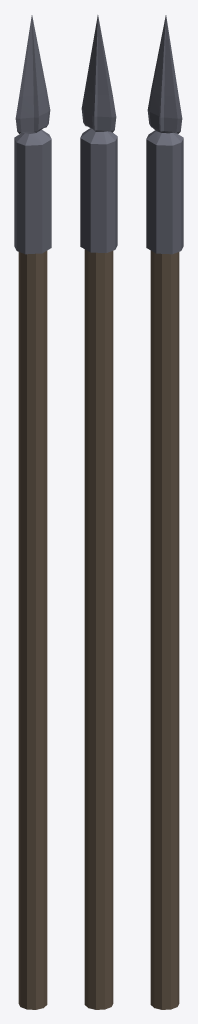
The model's file is _SPEAR.fbx.
The picture shows the model from 3 angles, left to right: view 1: azimuth 30°, elevation 25°; view 2: azimuth 150°, elevation 25°; view 3: azimuth 330°, elevation 25°; orthographic projection.
Parts seen in each view (by area): view 1: SPEAR; view 2: SPEAR; view 3: SPEAR.
Part boxes in pixels (bbox=[...]): SPEAR: bbox=[14, 15, 51, 1009]; SPEAR: bbox=[80, 15, 117, 1009]; SPEAR: bbox=[146, 15, 183, 1009].
Size of the model in its own units: 8.25 by 225 by 7.39.
